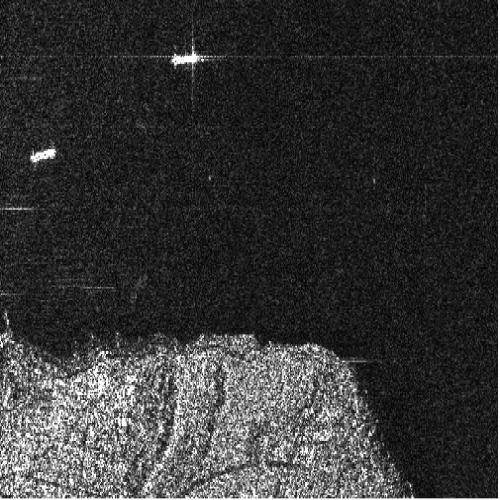ship: (30, 147, 56, 164), (171, 53, 200, 67)
